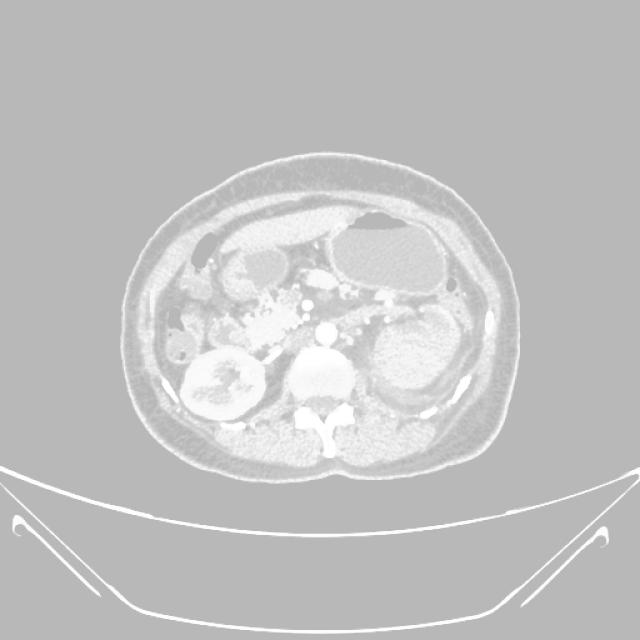TUMOR: (96, 184, 460, 446)
